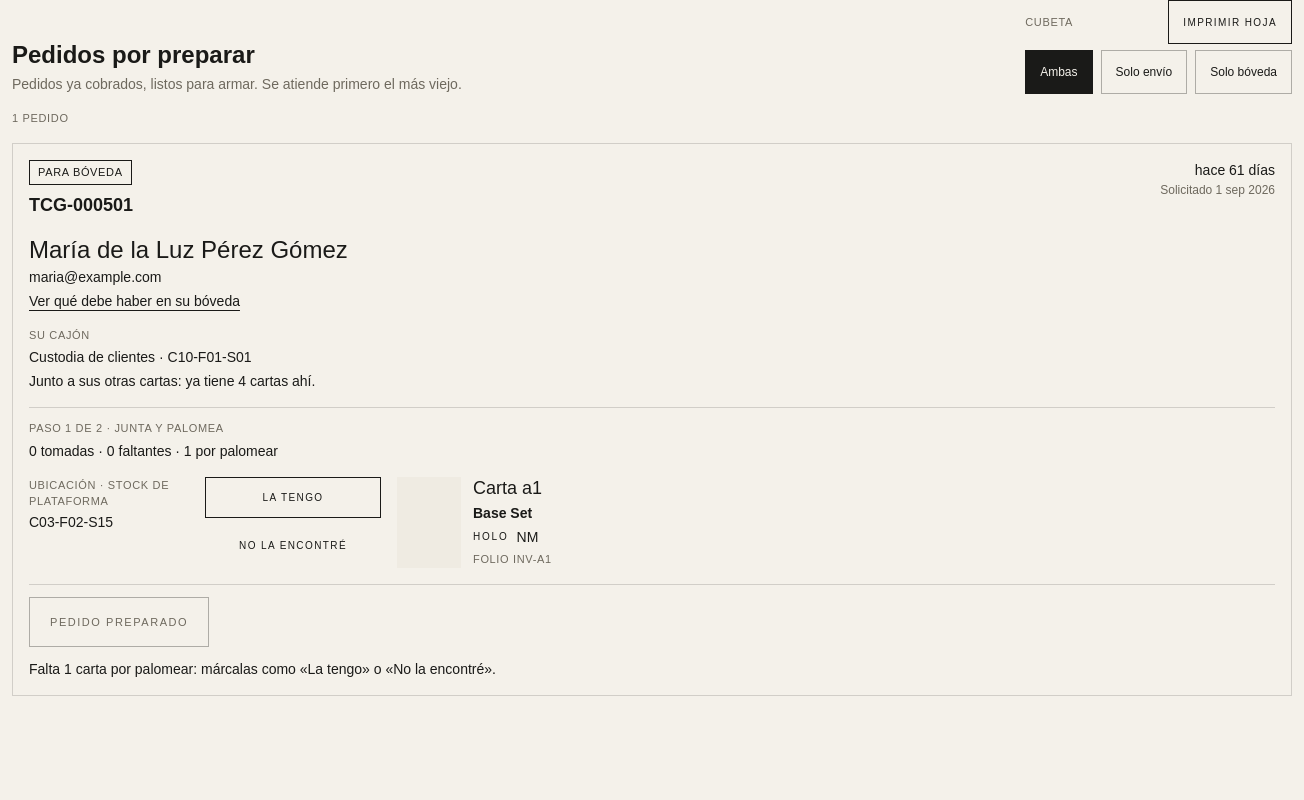
Test: Tarjeta «Para bóveda» · verbos y respuestas (§36.5–§36.9) › «No la encontré»: faltante con su frase, que ⛔ no promete reembolso ni aviso
Click the button with aria-label "No la encontré:": coordinates (293, 545) [205,526,381,564]
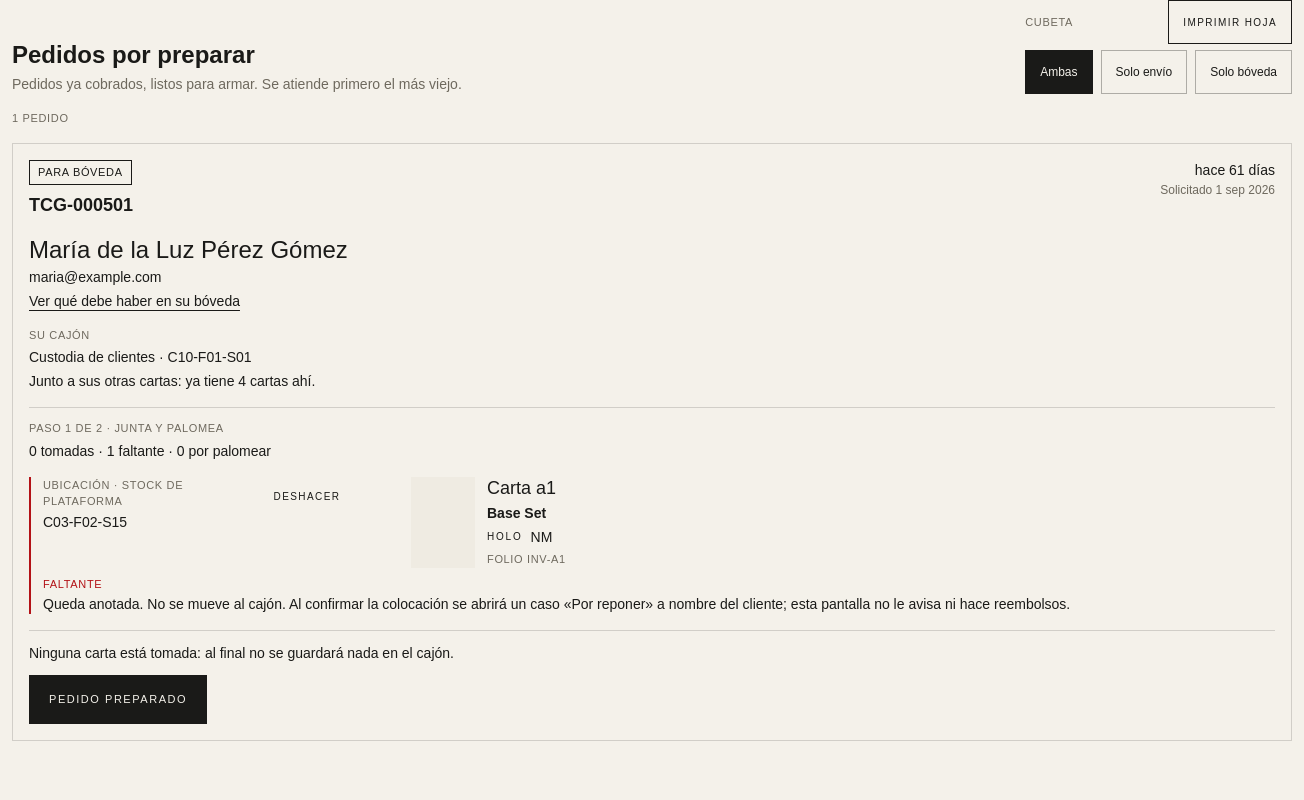
Check: the list item with test id "prep-item-a1" shows "Faltante", box [43,578,102,590]
Check: the list item with test id "prep-item-a1" shows "Queda anotada. No se mueve al cajón. Al confirmar la colocación se abrirá un caso «Por reponer» a nombre del cliente; esta pantalla no le avisa ni hace reembols", box [43,596,1070,612]
Check: the text "Ninguna carta está tomada: al final no se guardará nada en el cajón." is shown, box [29,645,454,661]
